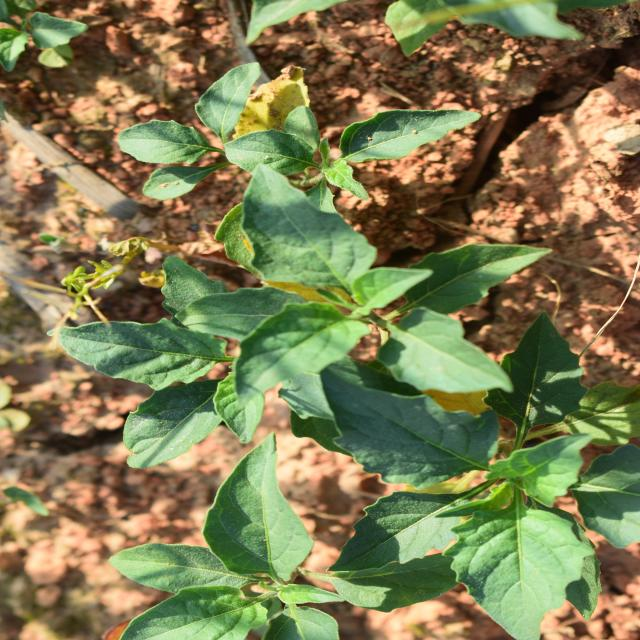Black_nightshade: (213, 177, 471, 525), (11, 338, 285, 610), (0, 106, 166, 364)
